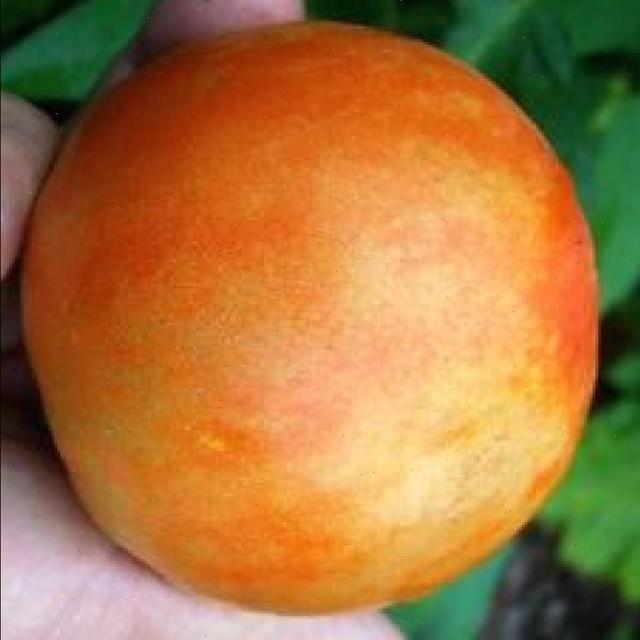Spotted wilt Virus Fruit: (15, 12, 401, 414)
